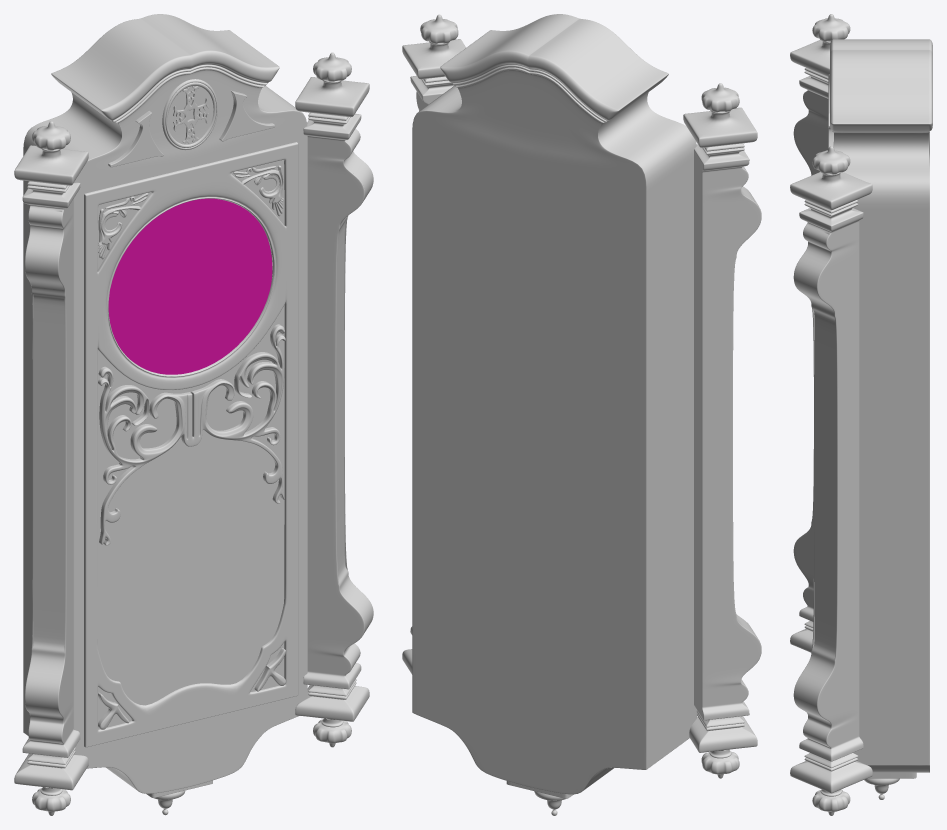
The model's file is Clock.fbx.
3 views of the same model, side by side, from view 1: azimuth 30°, elevation 25°; view 2: azimuth 150°, elevation 25°; view 3: azimuth 270°, elevation 25° (orthographic). The views are drawn at different scales.
Parts seen in each view (by area): view 1: Fabulous-Lenzkirch-Wall-Clock-2011-obj; view 2: Fabulous-Lenzkirch-Wall-Clock-2011-obj; view 3: Fabulous-Lenzkirch-Wall-Clock-2011-obj.
Boxes of the visible parts, box(x1,y1,x2,y2) form: Fabulous-Lenzkirch-Wall-Clock-2011-obj: box(14, 14, 373, 815); Fabulous-Lenzkirch-Wall-Clock-2011-obj: box(402, 14, 761, 815); Fabulous-Lenzkirch-Wall-Clock-2011-obj: box(790, 14, 932, 815).
Bounding box in the file's own units: 87.75 × 184 × 31.69.
